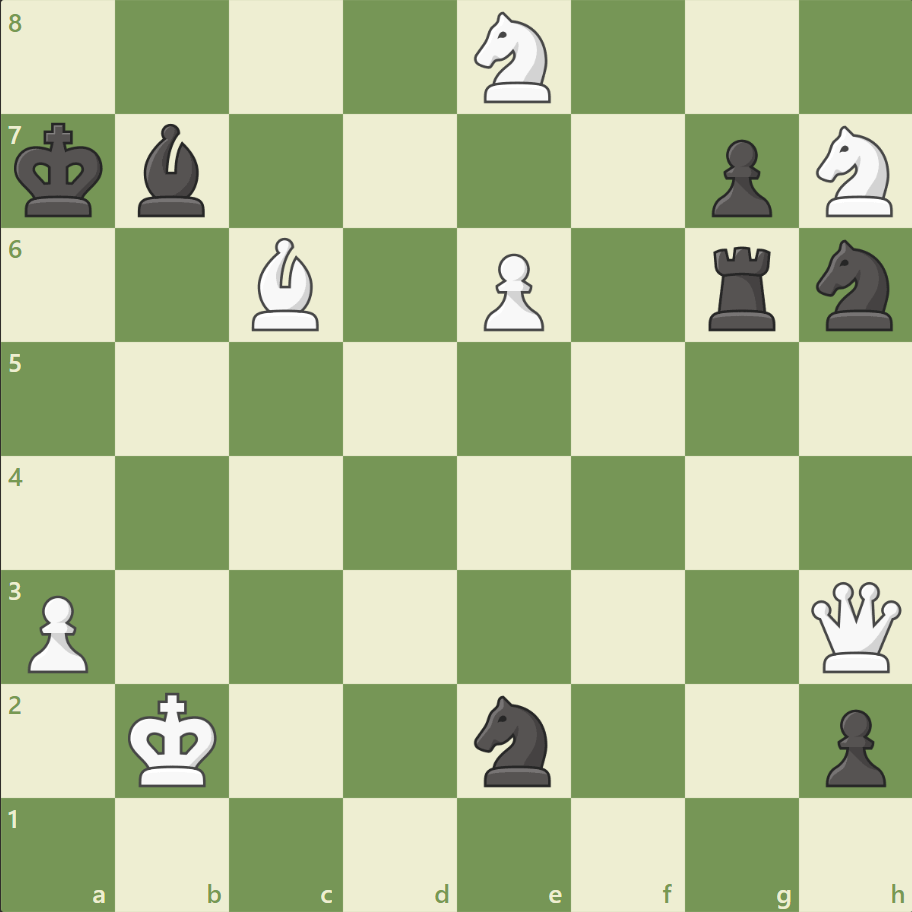B: (244, 233, 328, 336)
K: (124, 685, 224, 793)
N: (465, 7, 562, 110), (806, 121, 903, 223)
P: (474, 246, 549, 337), (20, 586, 95, 677)
Q: (805, 576, 904, 676)
b: (131, 120, 215, 222)
k: (11, 117, 111, 225)
n: (806, 234, 903, 337), (465, 688, 562, 791)
p: (701, 132, 776, 223), (815, 700, 889, 791)
r: (700, 239, 783, 336)
